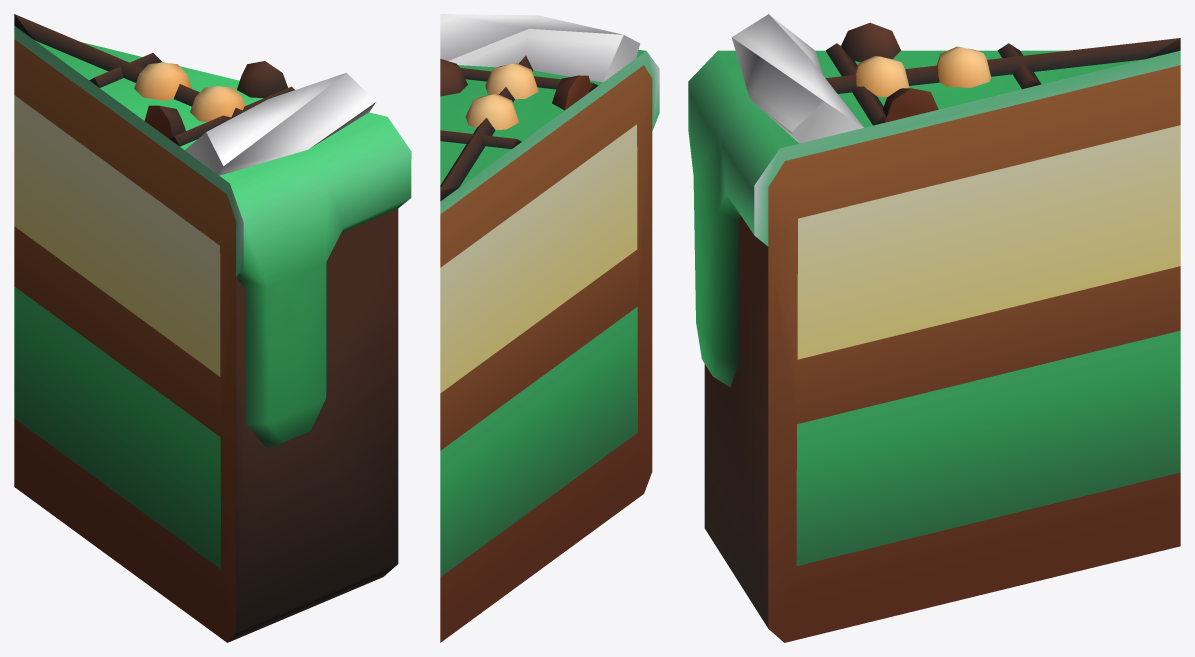
Rendered from m_MintCake01_Slice02.fbx.
3 renders of one model, left to right at view 1: azimuth 30°, elevation 25°; view 2: azimuth 150°, elevation 25°; view 3: azimuth 270°, elevation 25°, orthographic. The views are drawn at different scales.
Parts seen in each view (by area): view 1: m_MintCake01_Slice02; view 2: m_MintCake01_Slice02; view 3: m_MintCake01_Slice02.
Boxes of the visible parts, box(x1,y1,x2,y2) form: m_MintCake01_Slice02: box(14, 14, 411, 642); m_MintCake01_Slice02: box(440, 14, 659, 642); m_MintCake01_Slice02: box(688, 14, 1180, 642).
Bounding box in the file's own units: 6.52 × 15.54 × 13.04.
